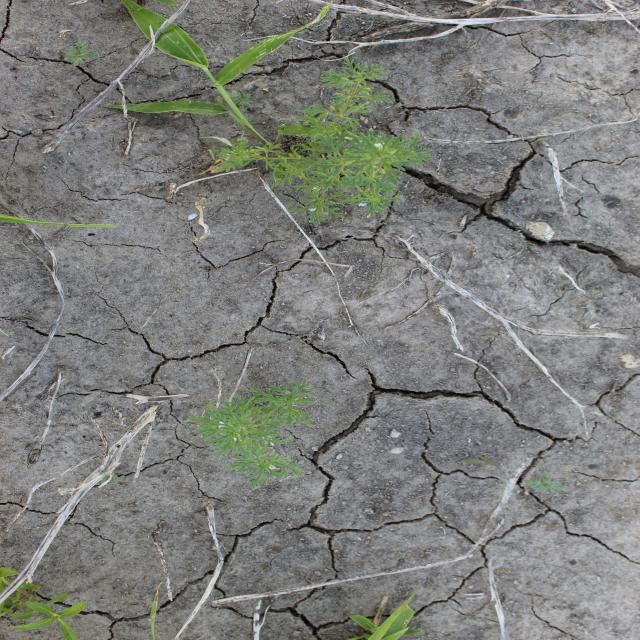Ragweed: (210, 56, 436, 227), (184, 378, 319, 492), (62, 40, 102, 68)
